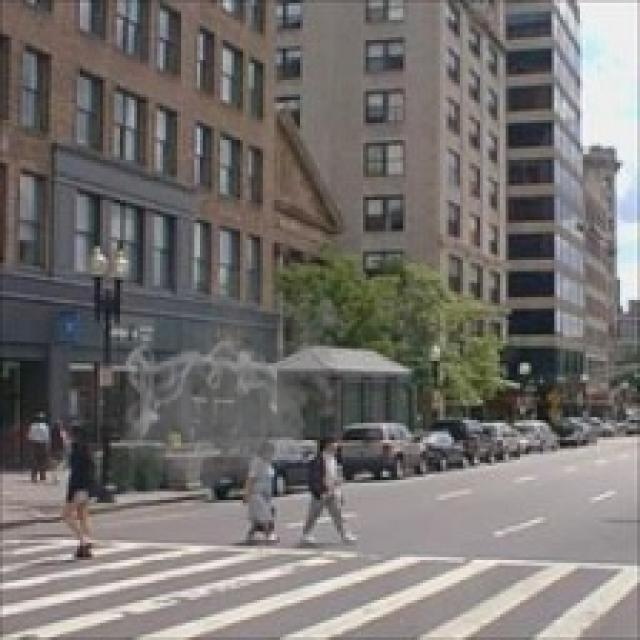smoke: (117, 272, 352, 512)
